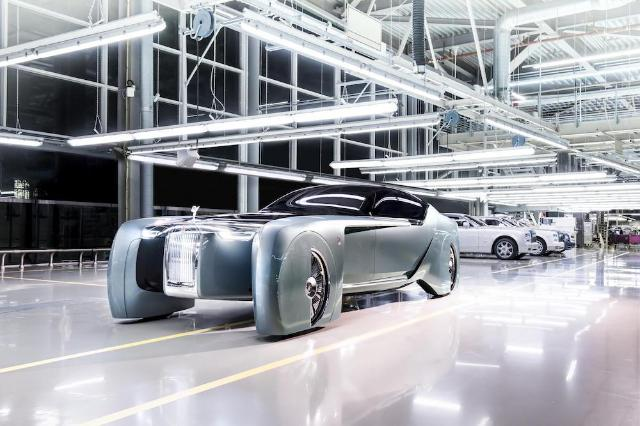rolls-royce: (107, 185, 461, 337)
